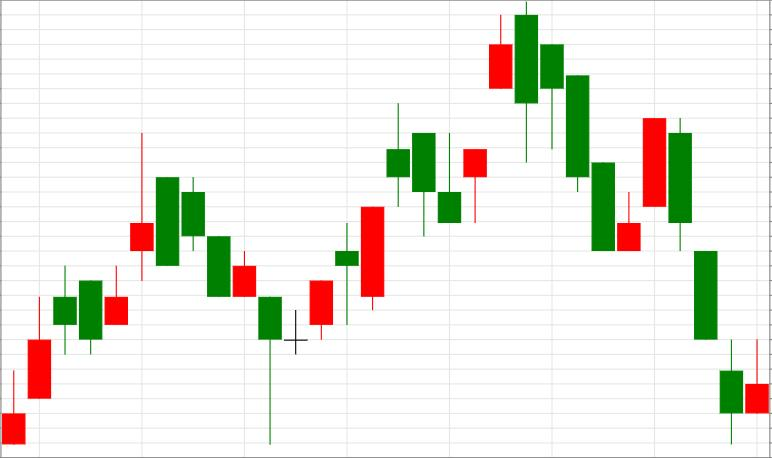bearish_engulfing_fall: (362, 1, 537, 310)
hammer_rise: (156, 176, 282, 445)
morning_star_rise: (157, 177, 332, 356)
